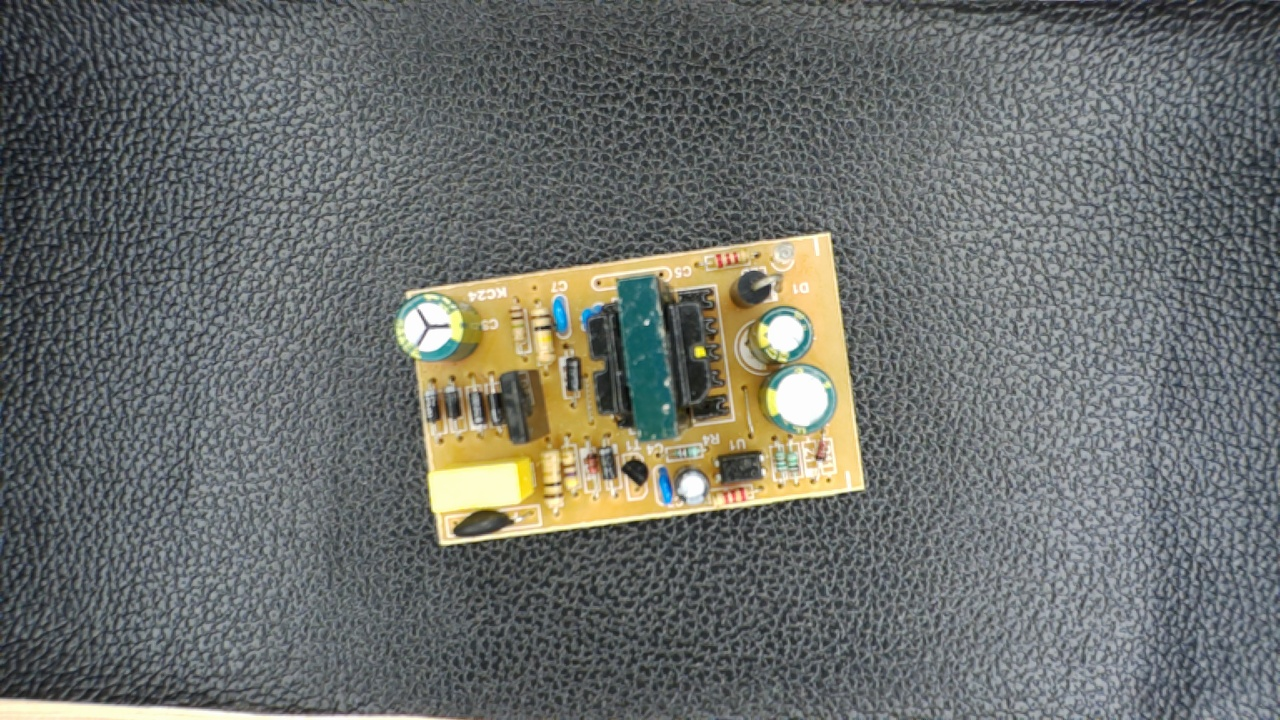fuse: (440, 503, 533, 540)
hv_capacitor: (390, 293, 489, 362)
optocoupler: (707, 447, 770, 486)
